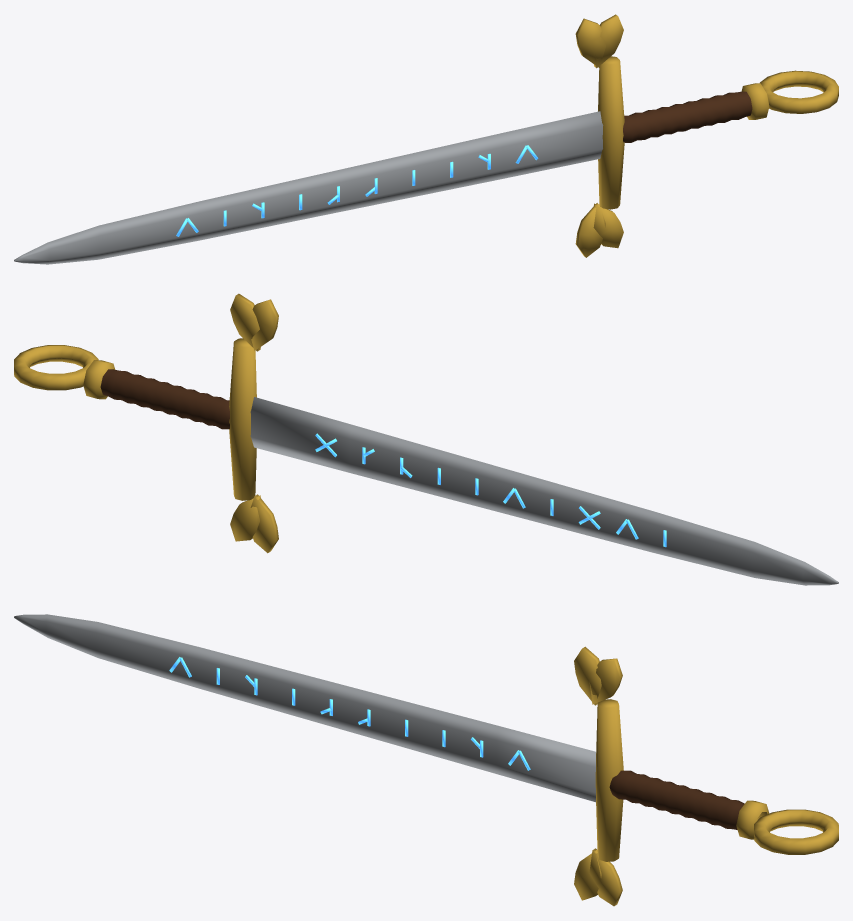
The model's file is Espada.glb.
3 renders of one model, top to bottom at view 1: azimuth 30°, elevation 25°; view 2: azimuth 150°, elevation 25°; view 3: azimuth 330°, elevation 25°, orthographic. The views are drawn at different scales.
Parts seen in each view (by area): view 1: Espada; view 2: Espada; view 3: Espada.
Part boxes in pixels (x1,y1,x2,y2): Espada: (14, 14, 838, 264); Espada: (14, 293, 838, 585); Espada: (14, 614, 838, 906).
Bounding box in the file's own units: 0.9769 × 0.2787 × 0.0948.
